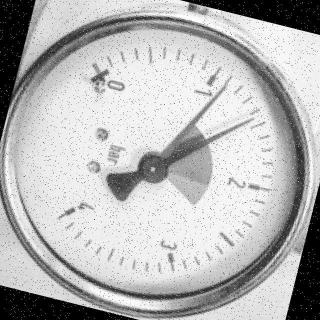gauge: (3, 9, 320, 320), (68, 52, 134, 108), (37, 185, 105, 238), (131, 146, 173, 188), (242, 111, 259, 128), (213, 80, 231, 96)
